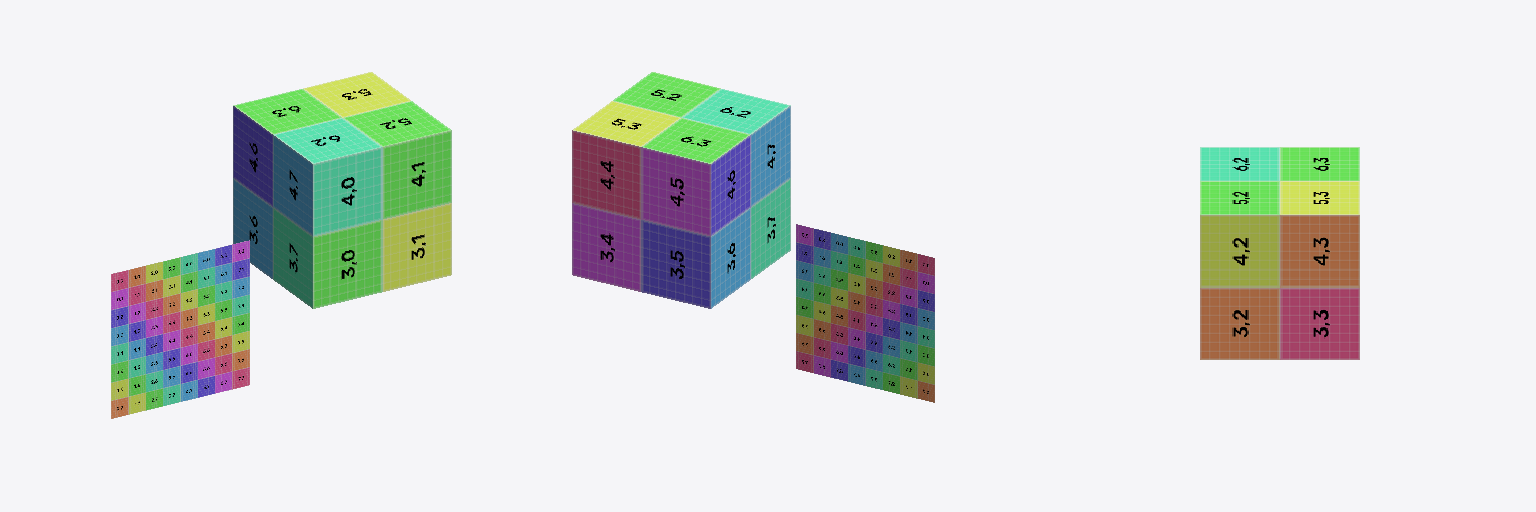
3 renders of one model, left to right at view 1: azimuth 30°, elevation 25°; view 2: azimuth 150°, elevation 25°; view 3: azimuth 270°, elevation 25°, orthographic.
Parts seen in each view (by area): view 1: Cube, Plane; view 2: Cube, Plane; view 3: Cube.
Part boxes in pixels (x1,y1,x2,y2): Cube: (233, 72, 451, 308); Plane: (111, 240, 249, 418); Cube: (572, 72, 790, 308); Plane: (796, 224, 934, 402); Cube: (1200, 147, 1359, 359).
Bounding box in the file's own units: 4.5 × 3.23 × 2.
1 materials, 1 textured.